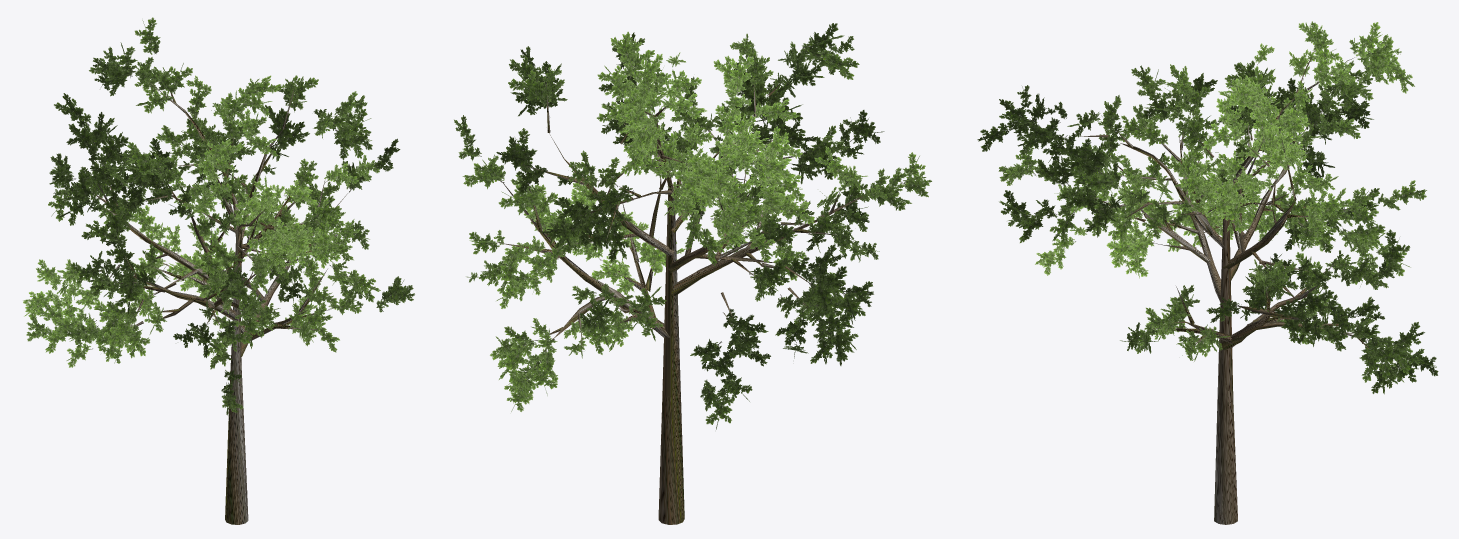
The model's file is oak-mid.glb.
The picture shows the model from 3 angles, left to right: view 1: azimuth 30°, elevation 25°; view 2: azimuth 150°, elevation 25°; view 3: azimuth 270°, elevation 25°; orthographic projection. The views are drawn at different scales.
Parts seen in each view (by area): view 1: oak-leaves, oak-bark; view 2: oak-leaves, oak-bark; view 3: oak-leaves, oak-bark.
Part boxes in pixels (<box>): oak-leaves: <box>23,17,414,415</box>; oak-bark: <box>92,66,349,524</box>; oak-leaves: <box>454,23,931,429</box>; oak-bark: <box>496,68,862,524</box>; oak-leaves: <box>977,21,1438,394</box>; oak-bark: <box>1080,50,1373,524</box>.
Bounding box in the file's own units: 9.64 × 11.04 × 9.64.
2 materials, 2 textured.
